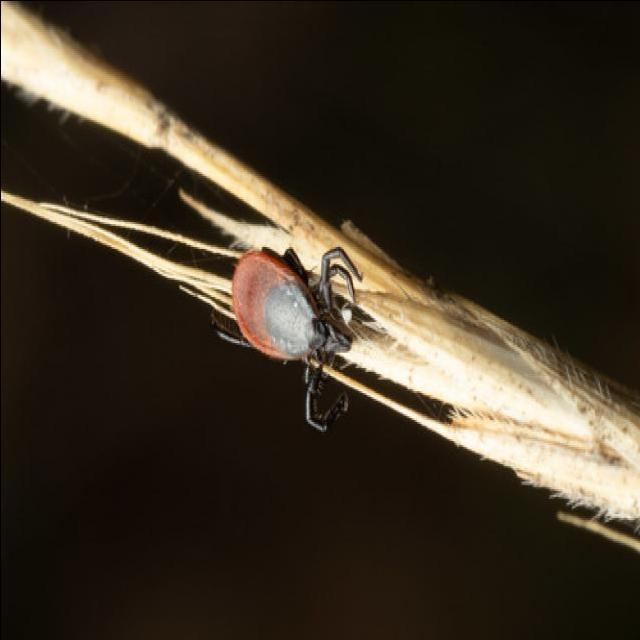Ixodes Ricinus-F: (229, 244, 364, 431)
